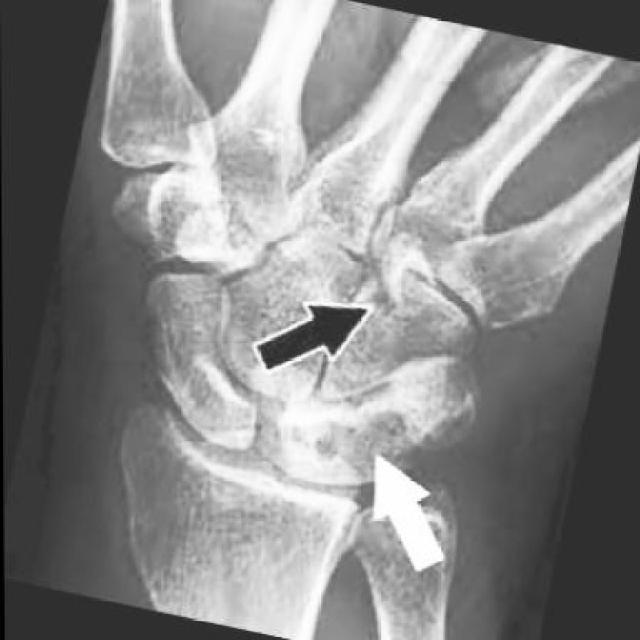Fracture: (366, 225, 458, 328)
